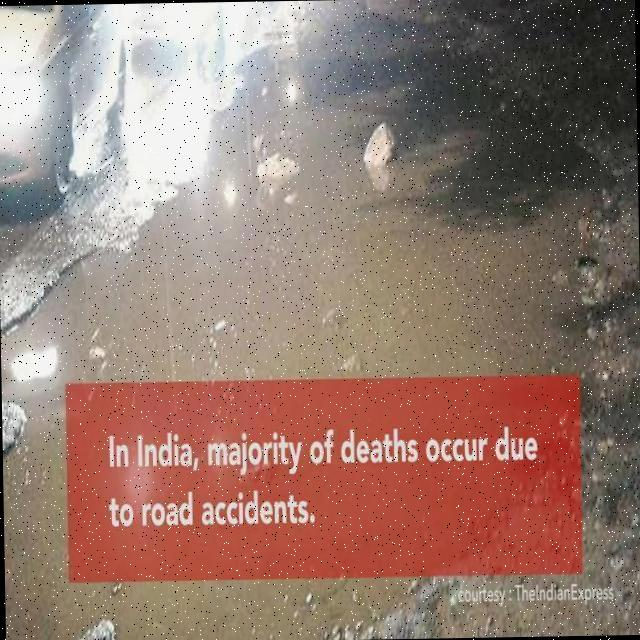pothole: (11, 34, 595, 414)
